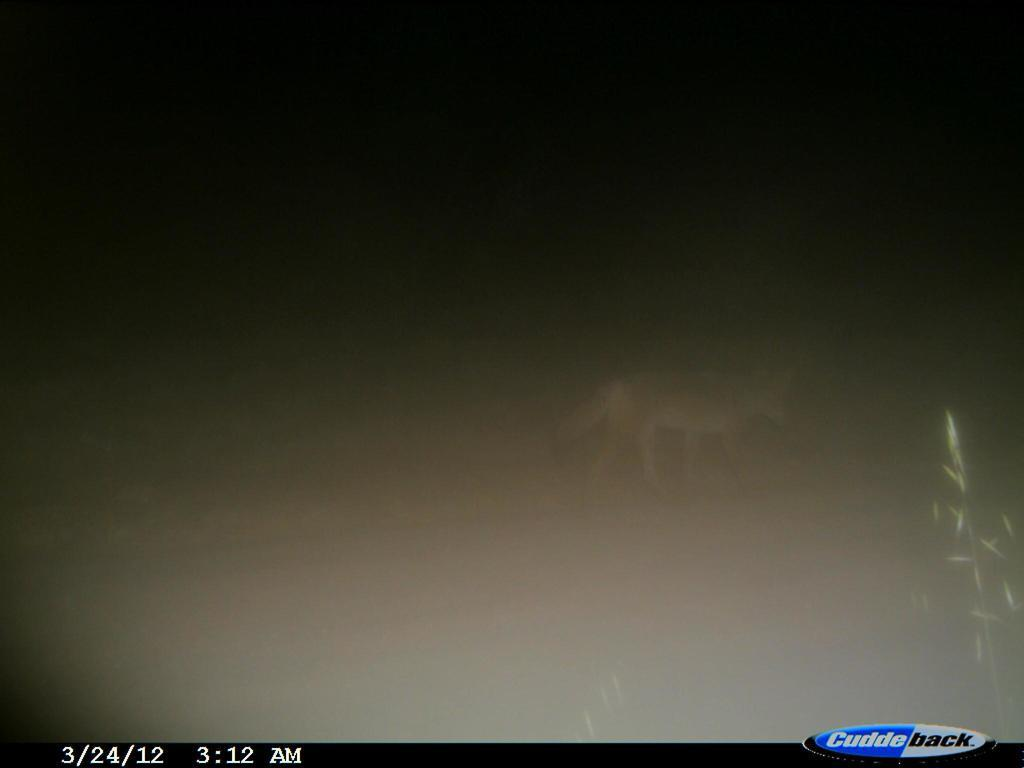coyote: (542, 323, 816, 501)
